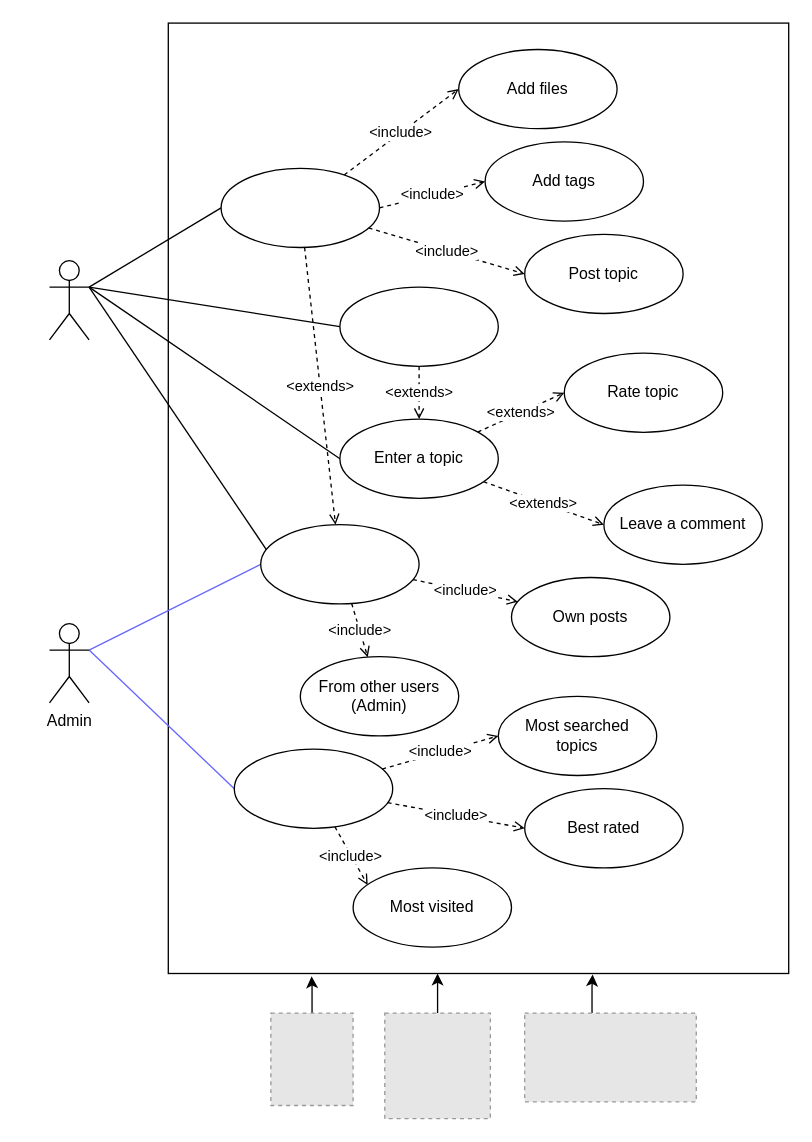
The diagram is 812 pixels wide and 1142 high, and some of its shapes have lost their labels. Grey dashed boxes stand in for pictures. The box of each missing label's shape, as (x1, y1, x2, y2) in pixels:
Create a new topic: (220, 167, 380, 248)
Edit topics: (259, 523, 419, 604)
Regular User: (48, 259, 89, 340)
Search topics: (339, 286, 498, 366)
See stats: (233, 748, 393, 828)
